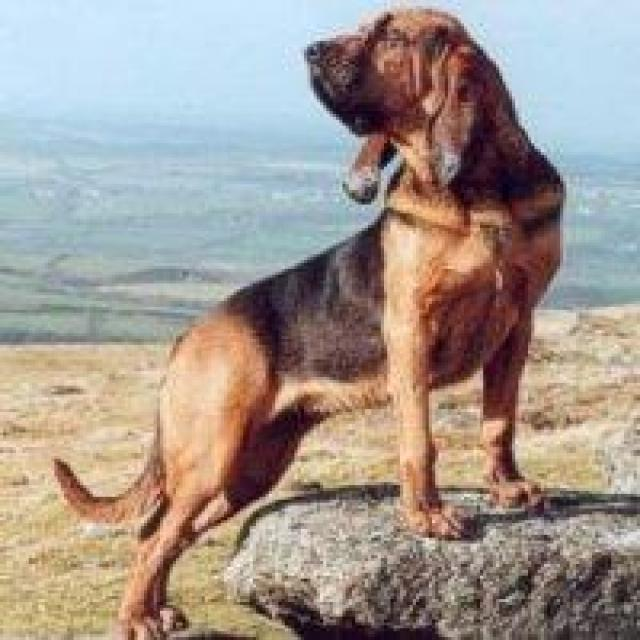bloodhound: (45, 6, 573, 637)
